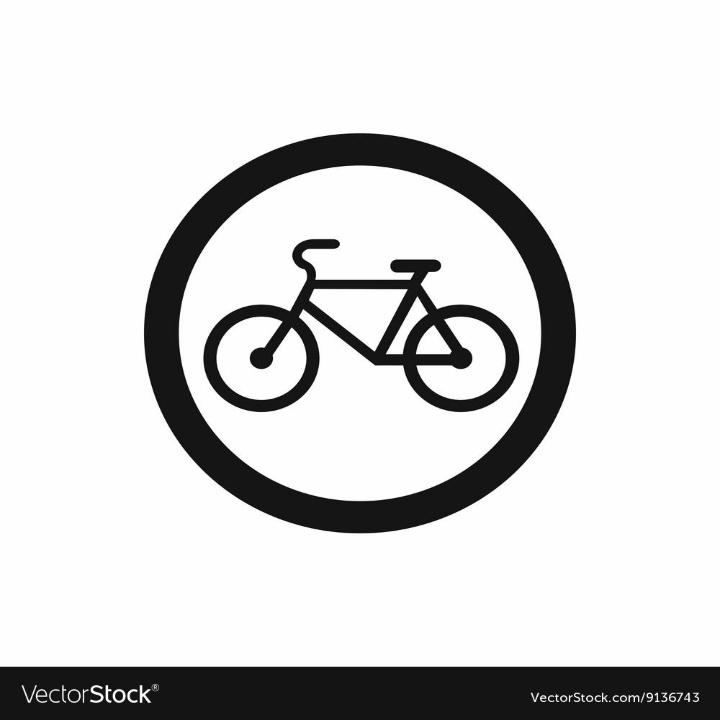bicycle: (170, 208, 540, 438)
